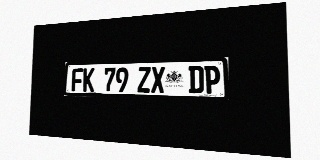7: (103, 68, 116, 92)
9: (116, 67, 128, 92)
D: (189, 66, 204, 93)
F: (72, 68, 83, 92)
K: (83, 68, 95, 92)
P: (204, 65, 220, 94)
X: (151, 67, 165, 93)
Z: (137, 67, 151, 93)
